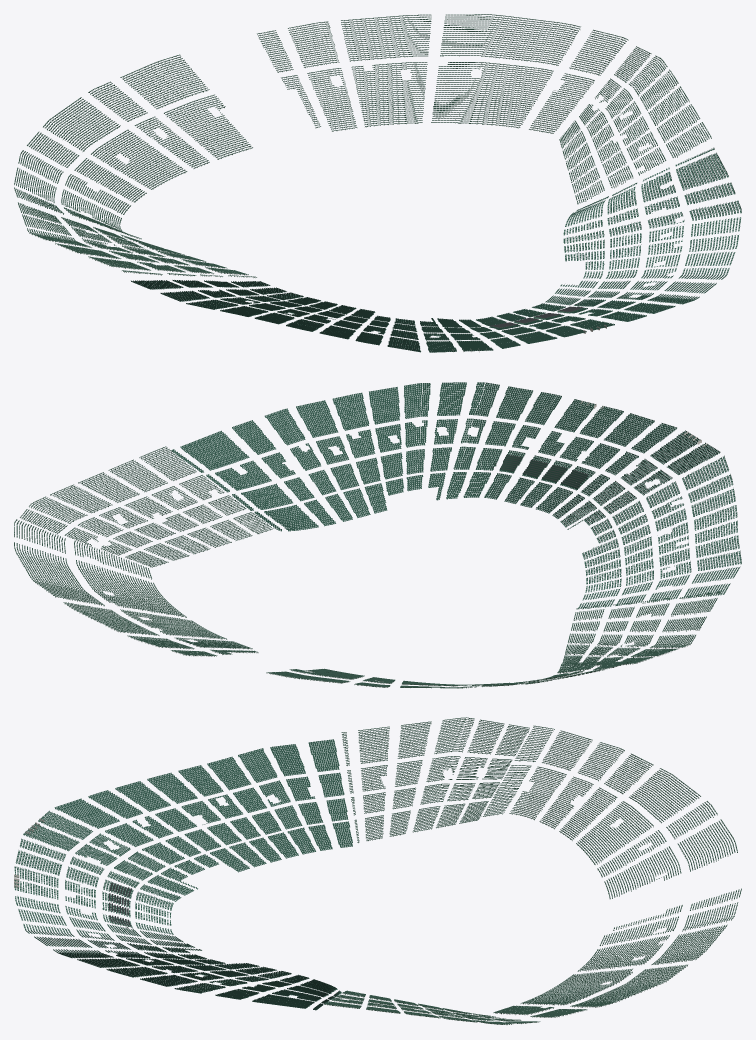
Rendered from r15_nightlight_seats.glb.
The picture shows the model from 3 angles, top to bottom: view 1: azimuth 30°, elevation 25°; view 2: azimuth 150°, elevation 25°; view 3: azimuth 270°, elevation 25°; orthographic projection. The views are drawn at different scales.
Visible parts, largest first — view 1: seats; view 2: seats; view 3: seats.
Part boxes in pixels (x1,y1,x2,y2): seats: (14,14,741,352); seats: (14,382,741,688); seats: (14,717,741,1024).
Size of the model in its own units: 226 by 17.39 by 226.
6 materials, 3 textured.
